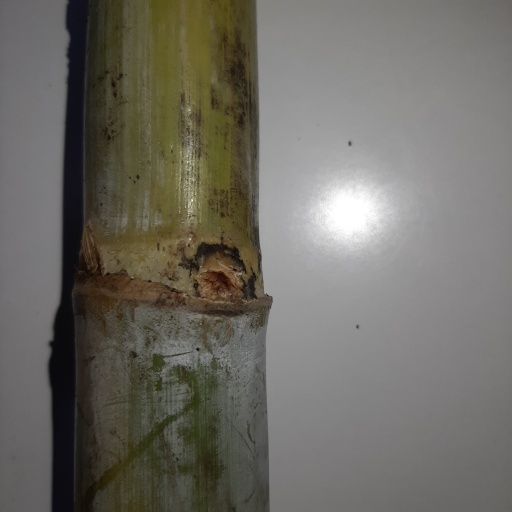Damage_Bud: (198, 253, 244, 302)
